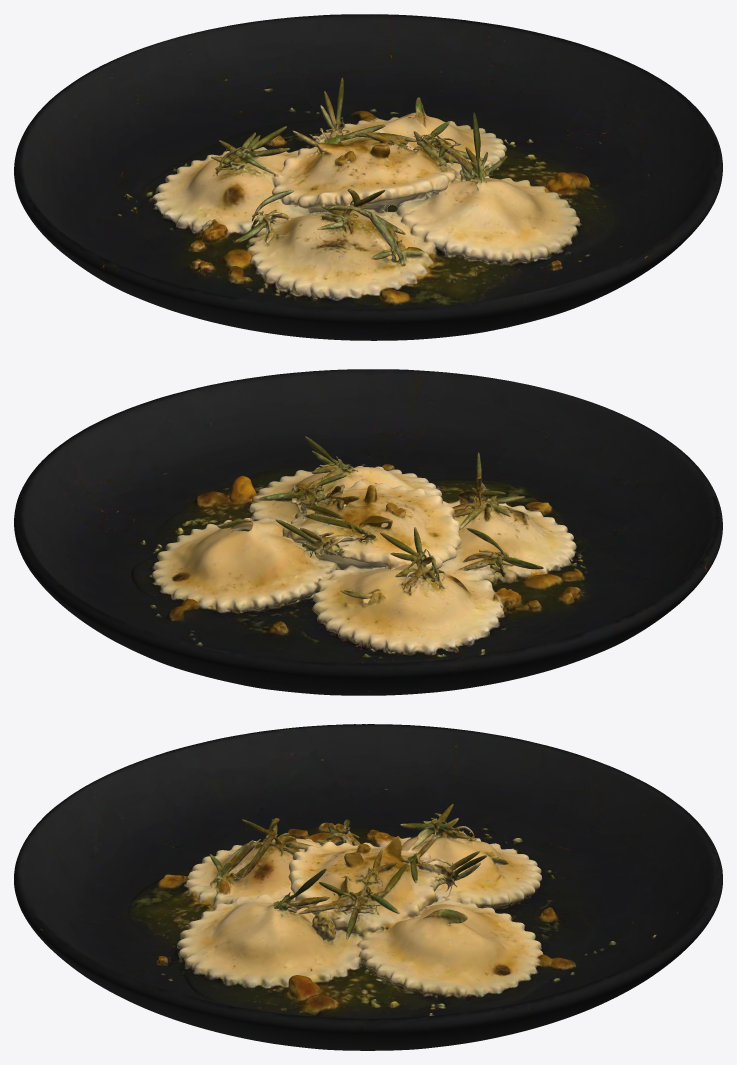
The model's file is ravioles-chevre-miel-meshy.glb.
3 renders of one model, top to bottom at view 1: azimuth 30°, elevation 25°; view 2: azimuth 150°, elevation 25°; view 3: azimuth 270°, elevation 25°, orthographic.
Bounding box in the file's own units: 1.9 × 0.3894 × 1.9.
1 material, 1 textured.
